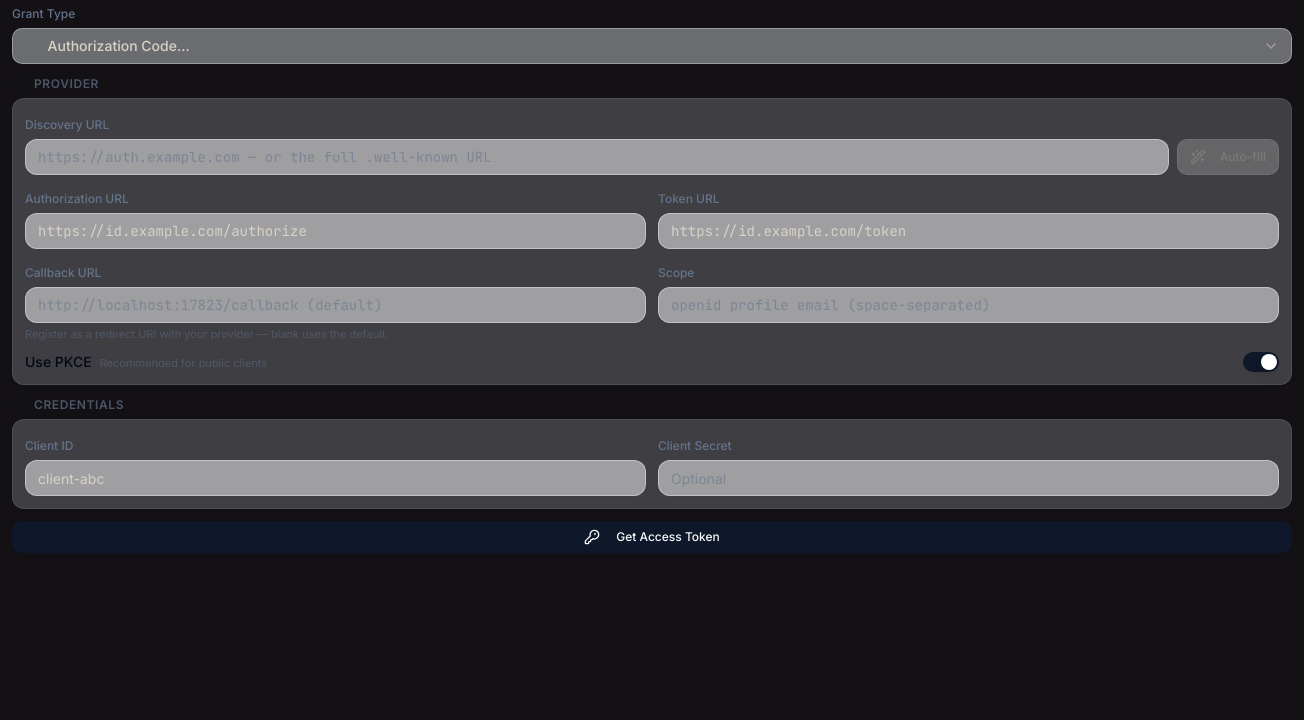
Test: cancelling an authorization code flow › surfaces the cancellation as the flow rejecting, and clears the spinner
The image size is (1304, 720).
Step 1. Click the button "Get Access Token" → (652, 537), box [12, 521, 1292, 553]
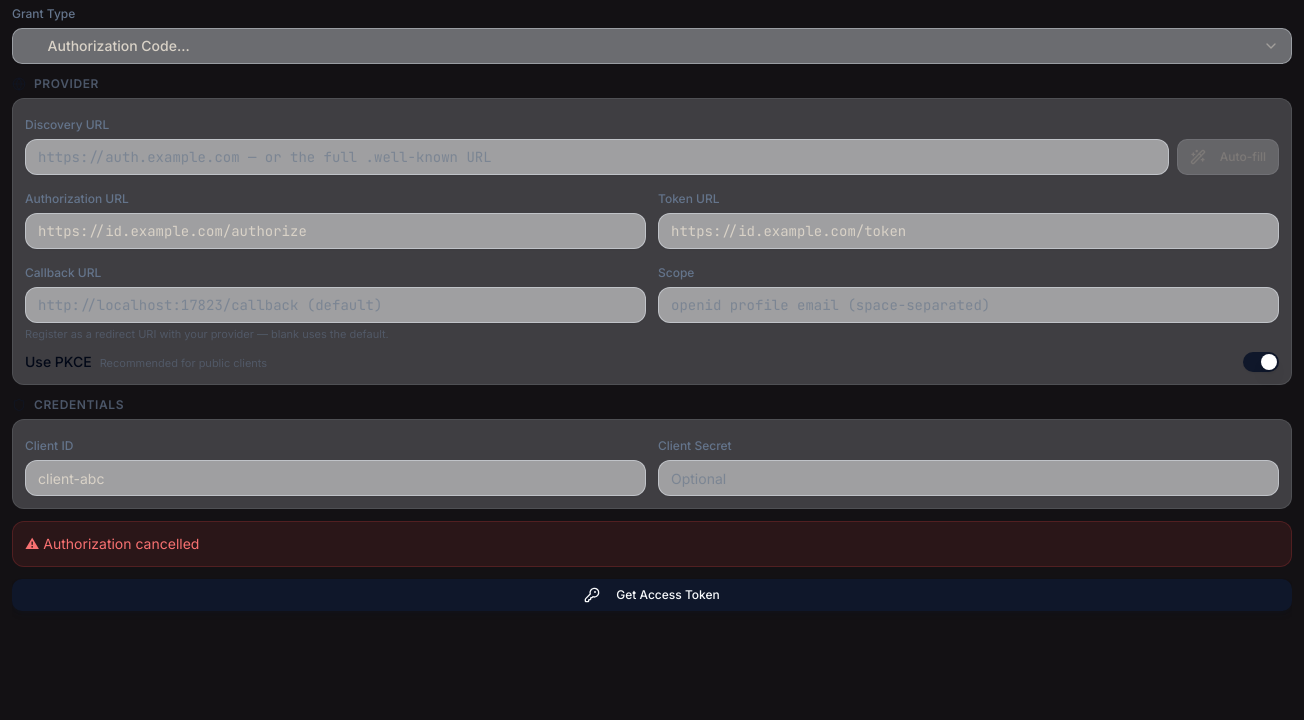
Expected: the button "Get Access Token" is enabled, [12, 579, 1292, 611]
Expected: the text "⚠ Authorization cancelled" is shown, [12, 521, 1292, 567]
